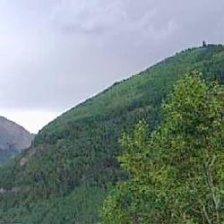neutral: (4, 7, 224, 222)
